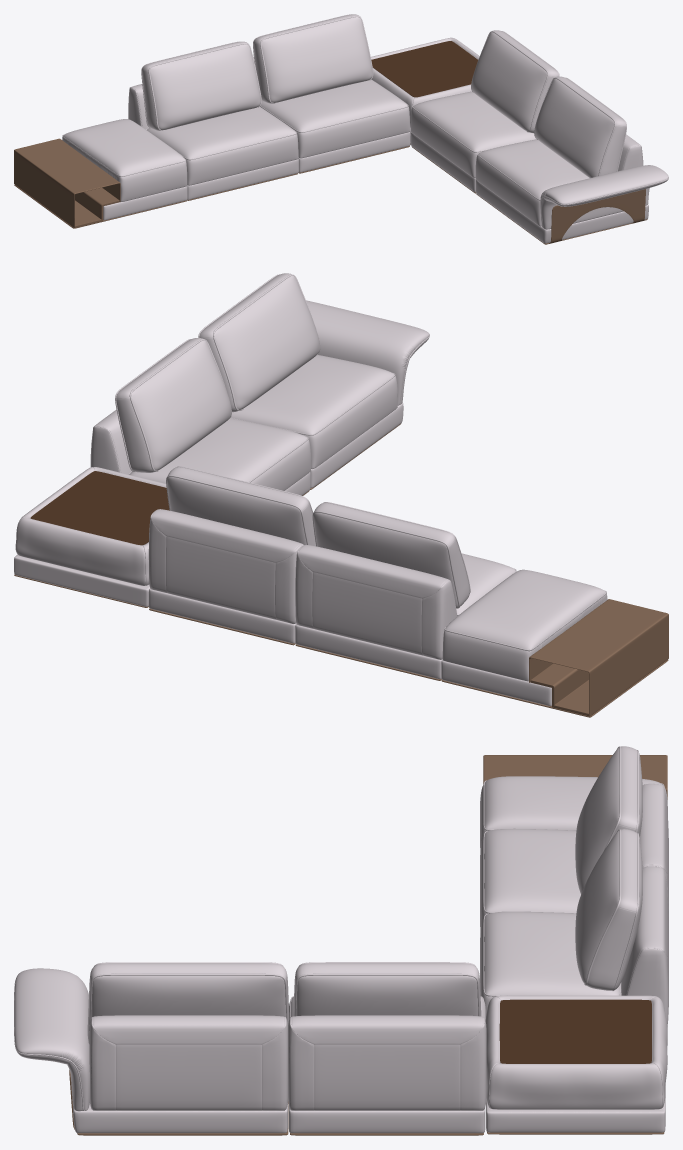
File: St_Hilker_DORTMUND__L_Shape.glb
The picture shows the model from 3 angles, top to bottom: view 1: azimuth 30°, elevation 25°; view 2: azimuth 150°, elevation 25°; view 3: azimuth 270°, elevation 25°; orthographic projection. The views are drawn at different scales.
Parts seen in each view (by area): view 1: DORTMUND__L_Shape; view 2: DORTMUND__L_Shape; view 3: DORTMUND__L_Shape.
Part boxes in pixels (x1=…): DORTMUND__L_Shape: x1=14, y1=14, x2=668, y2=244; DORTMUND__L_Shape: x1=14, y1=273, x2=668, y2=717; DORTMUND__L_Shape: x1=14, y1=746, x2=668, y2=1135.
Size of the model in its own units: 3.99 by 0.8974 by 3.35.
Materials: 3 (1 with a texture image).
